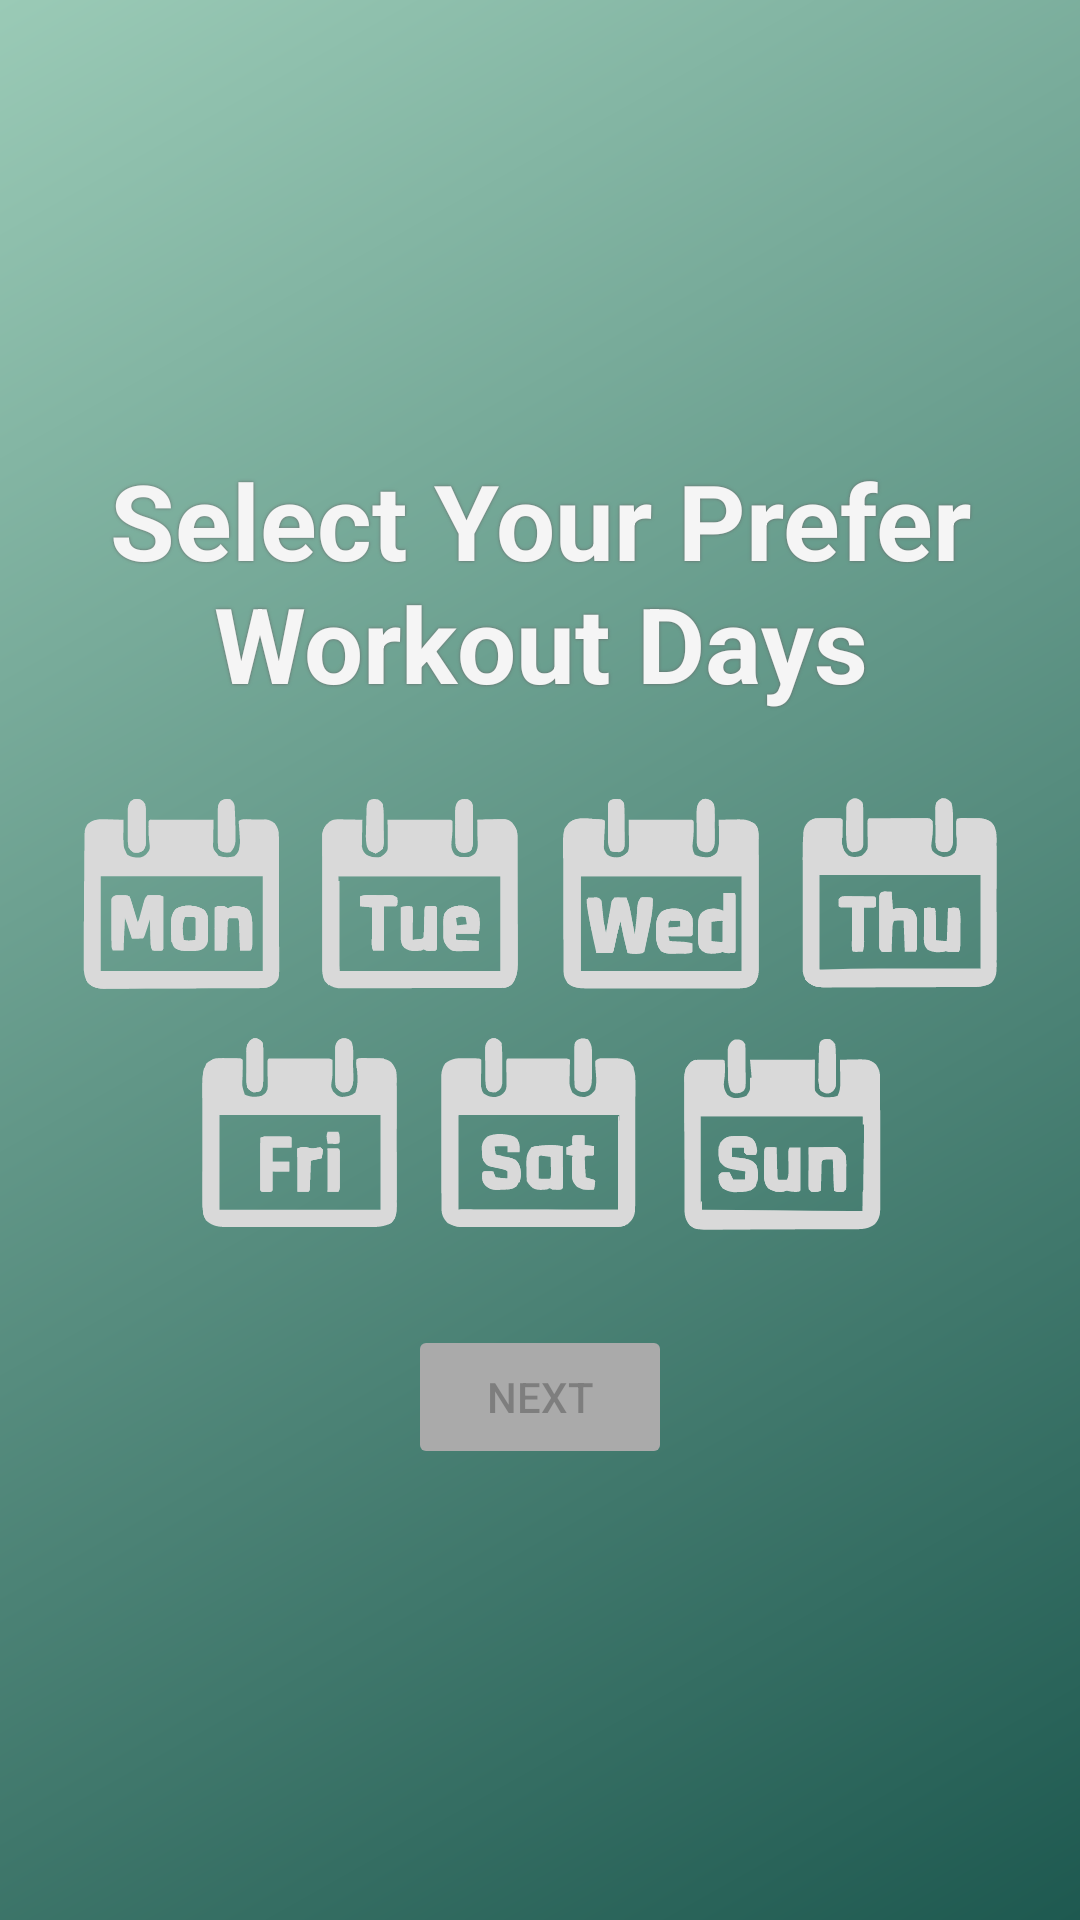

Screen size 1080w x 1920h. Icon name, then its center in pixels as (x=x, y=y):
week day: (x=661, y=893), (x=899, y=893), (x=181, y=894), (x=420, y=894), (x=299, y=1132), (x=538, y=1132), (x=782, y=1134)
